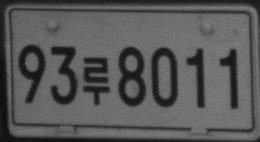0: (150, 46, 179, 107)
1: (184, 47, 212, 108), (218, 48, 244, 108)
3: (50, 45, 78, 105)
8: (117, 45, 146, 107)
9: (17, 43, 47, 104)
루: (82, 56, 109, 106)
